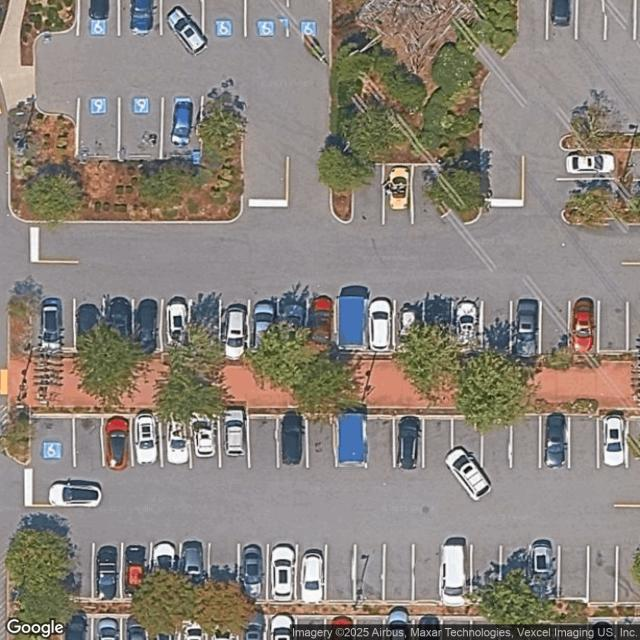car: (445, 446, 490, 500), (336, 405, 368, 467), (167, 5, 207, 54), (440, 543, 468, 607), (529, 538, 556, 596), (514, 299, 540, 356), (48, 481, 104, 507), (38, 298, 64, 352), (223, 407, 250, 458), (270, 545, 295, 599), (544, 412, 568, 468), (368, 298, 393, 351), (105, 416, 130, 468), (300, 550, 324, 604), (280, 410, 304, 464), (602, 410, 625, 466), (164, 413, 189, 464), (571, 298, 595, 351), (397, 416, 421, 468), (133, 413, 157, 464), (96, 545, 119, 598), (241, 544, 263, 598), (456, 300, 479, 351), (136, 298, 158, 351), (385, 166, 411, 210), (225, 305, 245, 361), (170, 98, 193, 146), (192, 412, 215, 458), (123, 544, 146, 590), (566, 153, 614, 175), (166, 297, 188, 342), (108, 296, 132, 337), (180, 540, 205, 578), (310, 295, 330, 341), (130, 0, 156, 35), (399, 304, 418, 348), (88, 0, 110, 36), (76, 302, 100, 335), (152, 540, 176, 572), (386, 607, 410, 639), (252, 298, 276, 330), (245, 610, 266, 639), (282, 304, 306, 328), (271, 614, 293, 639), (66, 612, 87, 638), (551, 0, 572, 26), (418, 616, 440, 638), (98, 617, 120, 639), (126, 623, 146, 640)
lot_boundary: (0, 0, 639, 639)
objects: (335, 285, 369, 350)
